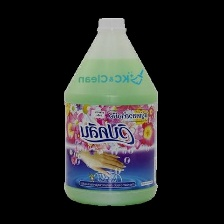cleaning_solution: (61, 14, 162, 208)
